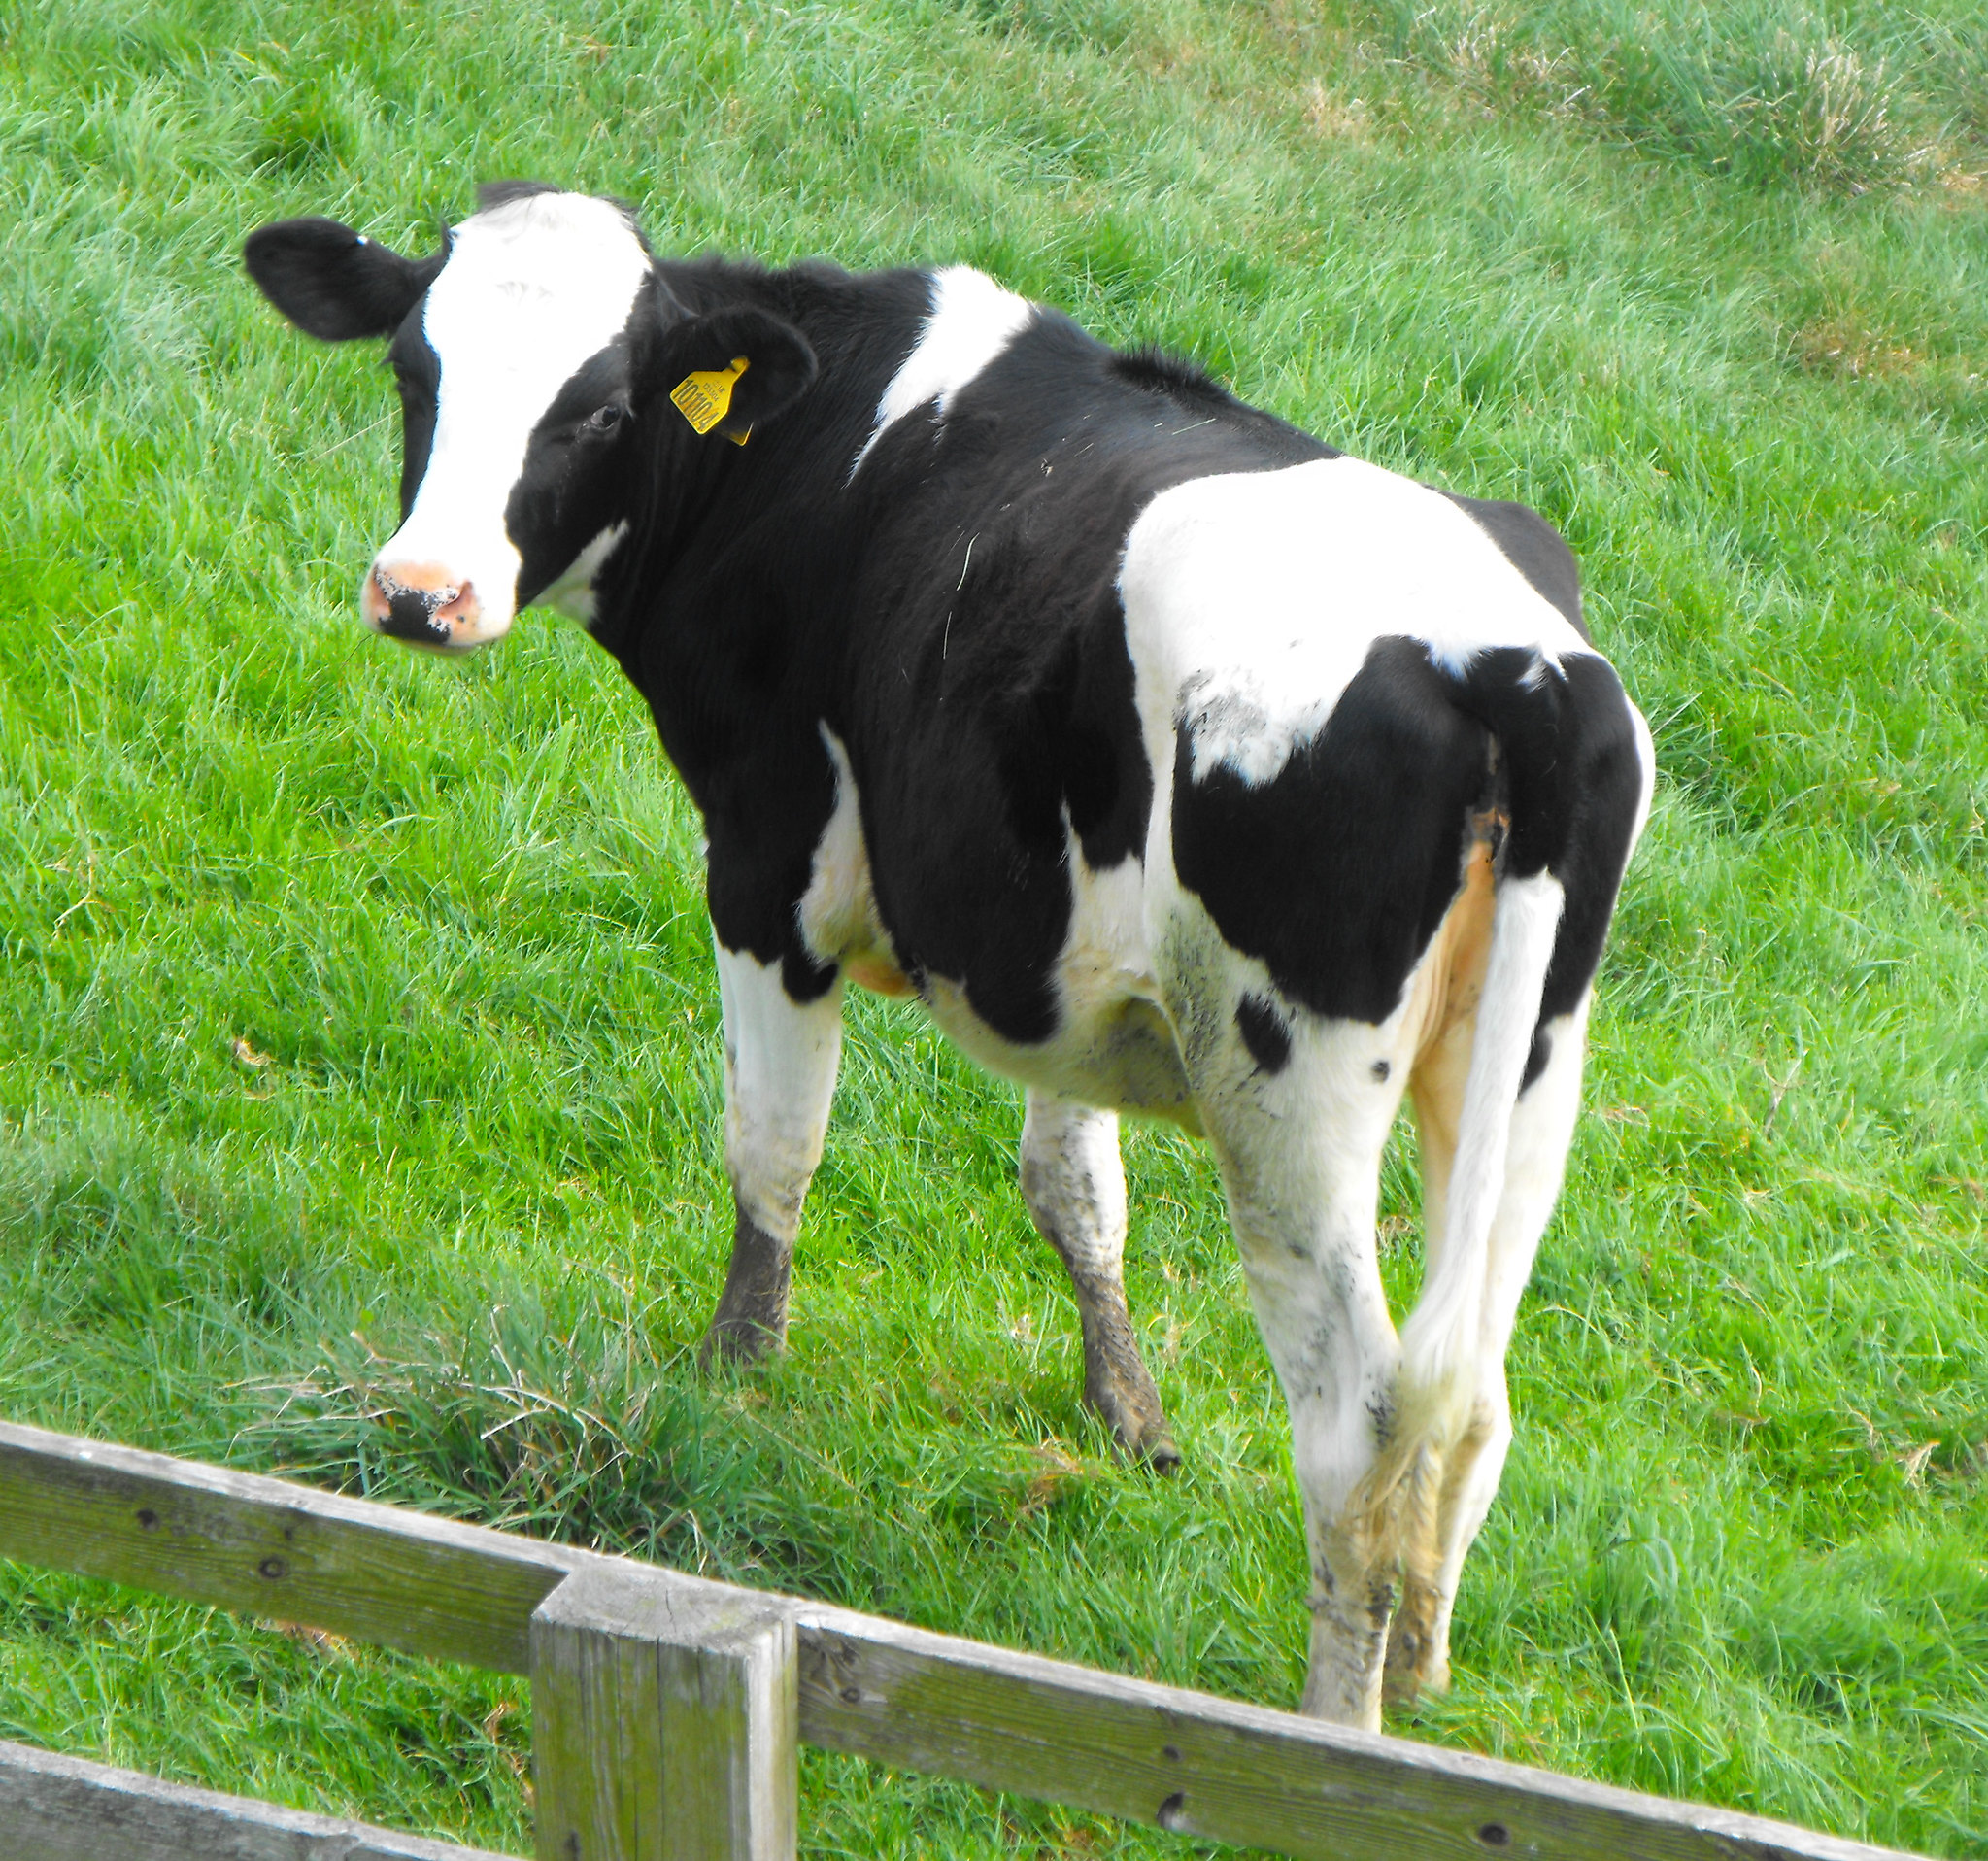cow: (231, 157, 1713, 1760)
